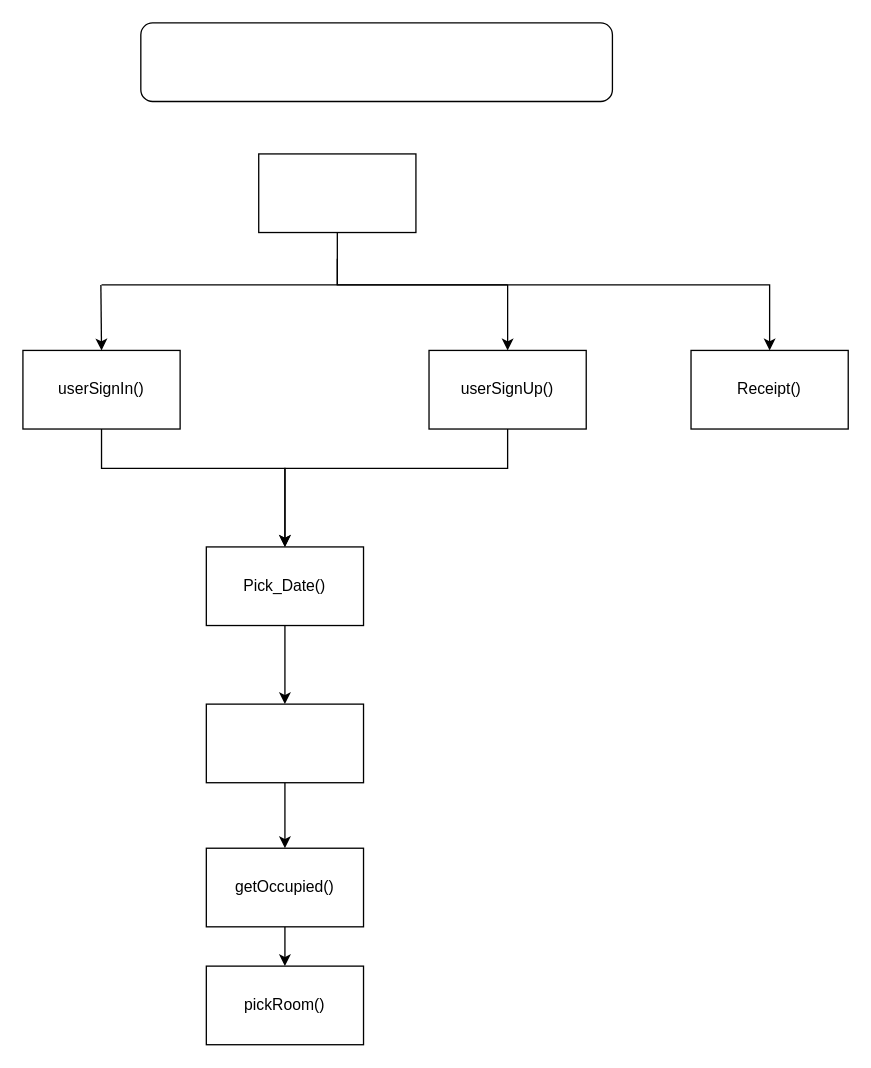
This 871x1068 diagram has some shape labels left out. Each missing label, with the centre of its shape:
Main(): (336,193)
Room_Type(): (284,743)
Team Hotel Overlook Chart: (376,62)
